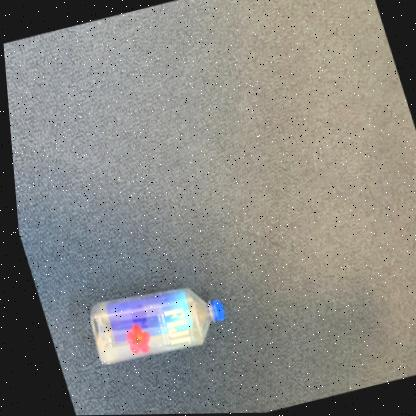Plastic: (84, 288, 219, 364)
